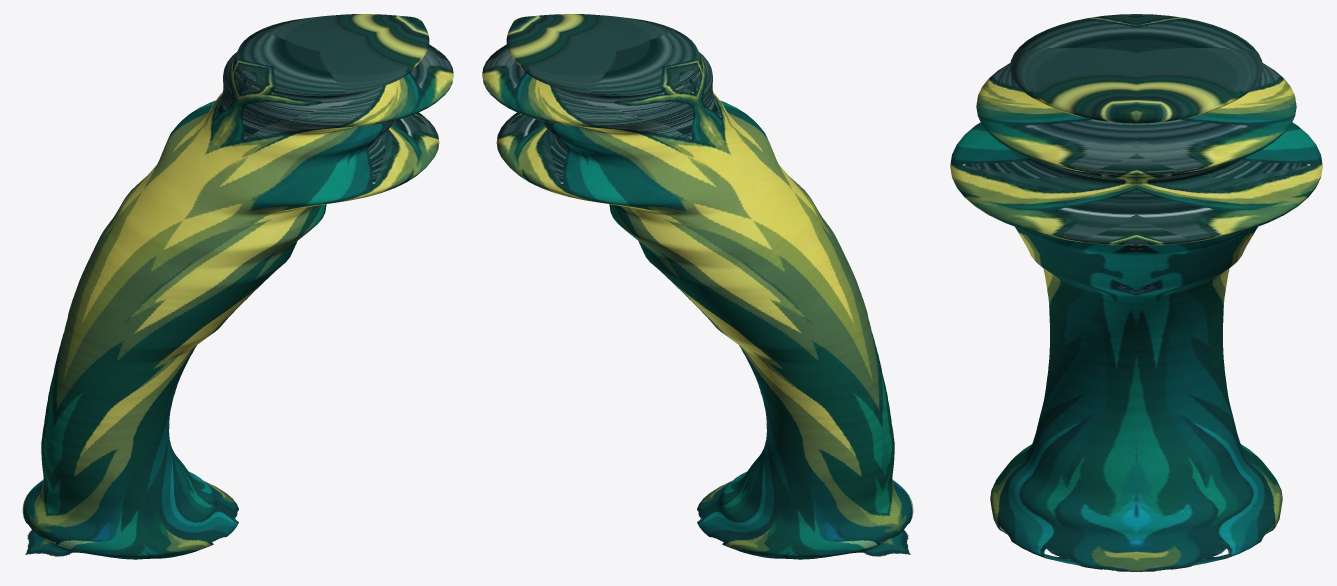
Rendered from leaning_tree.glb.
The picture shows the model from 3 angles, left to right: view 1: azimuth 30°, elevation 25°; view 2: azimuth 150°, elevation 25°; view 3: azimuth 270°, elevation 25°; orthographic projection. The views are drawn at different scales.
Parts seen in each view (by area): view 1: leaning_tree; view 2: leaning_tree; view 3: leaning_tree.
Boxes of the visible parts, <box> form: leaning_tree: <box>22,14,453,559</box>; leaning_tree: <box>482,14,913,559</box>; leaning_tree: <box>950,14,1322,571</box>.
Bounding box in the file's own units: 0.9243 × 0.9386 × 0.5192.
1 material, 1 textured.
